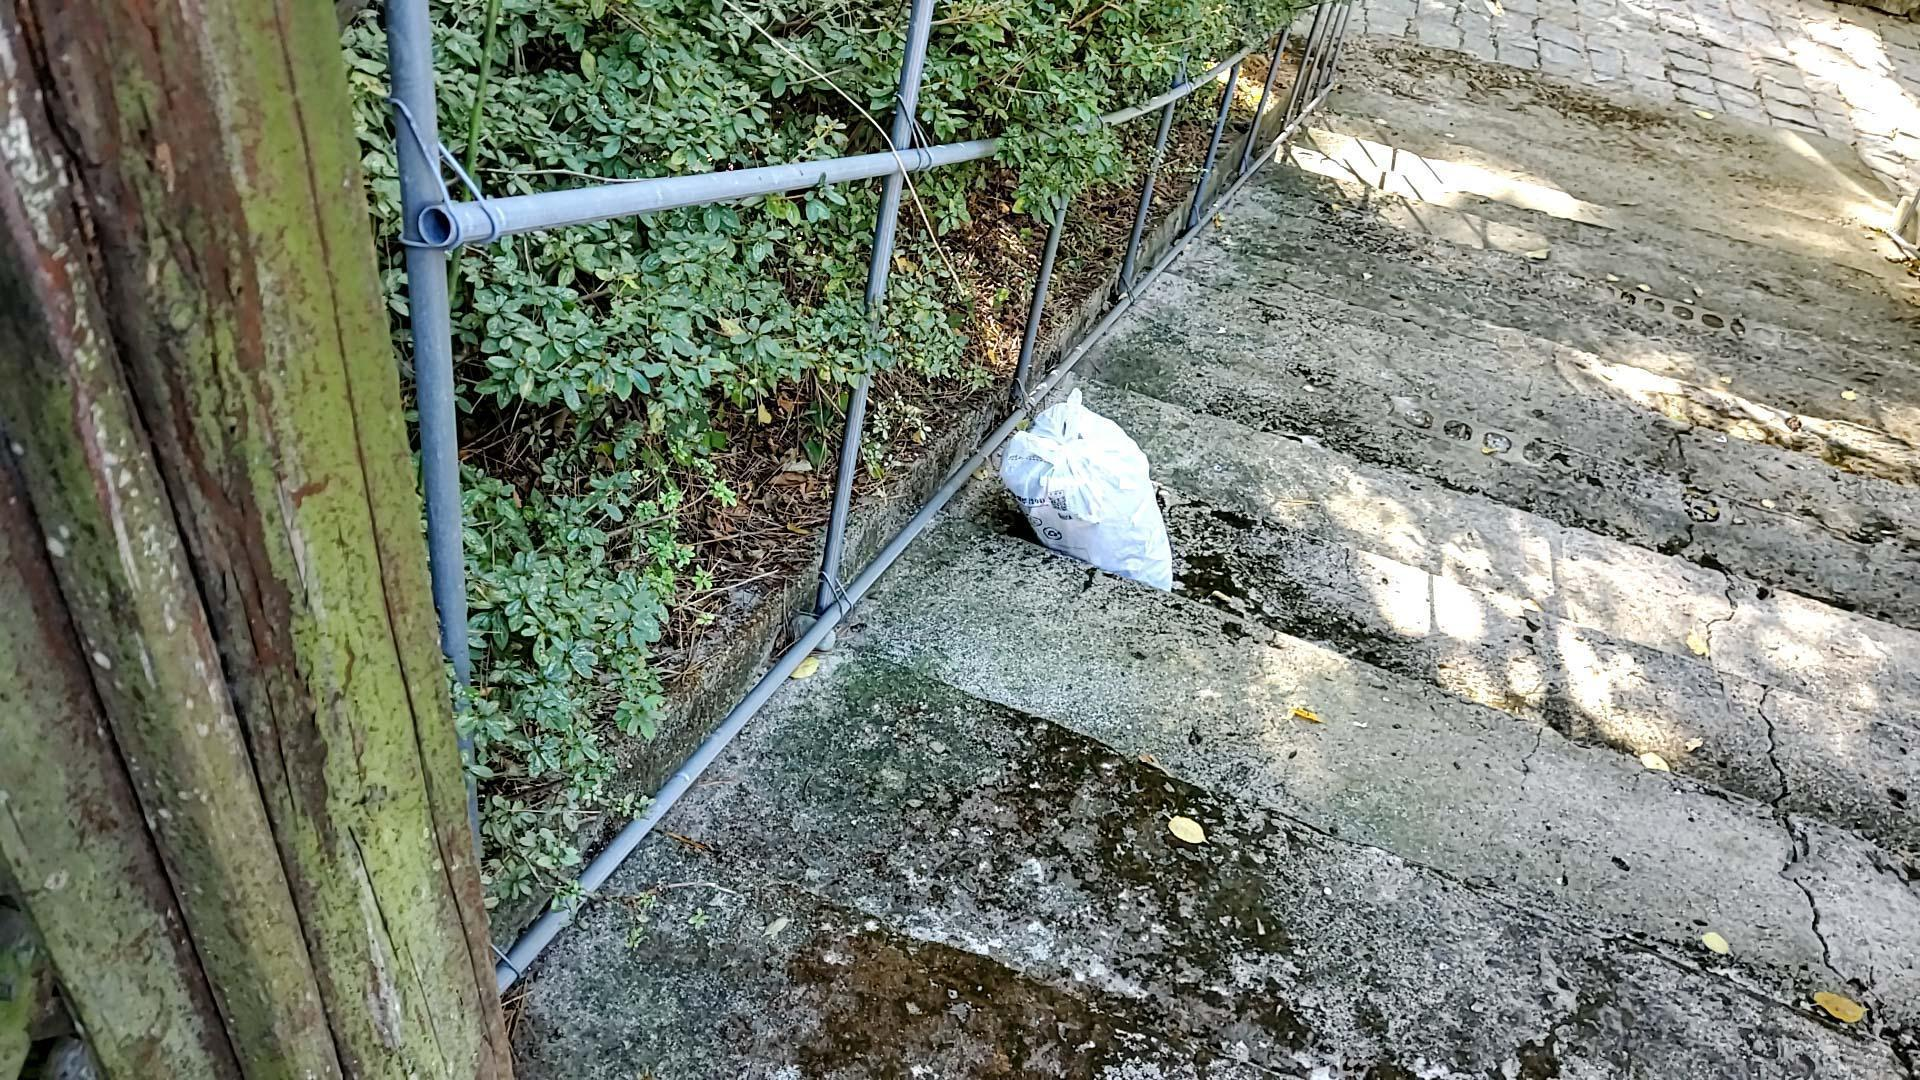white_bag: (982, 389, 1193, 607)
